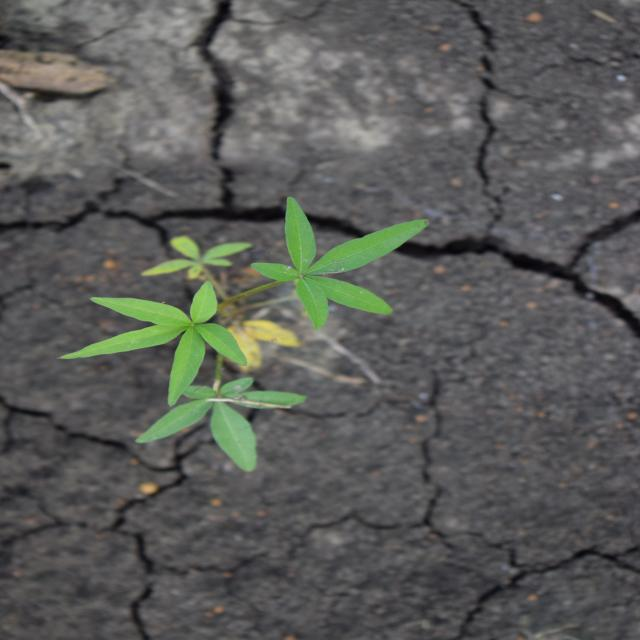MorningGlory: (56, 194, 434, 474)
